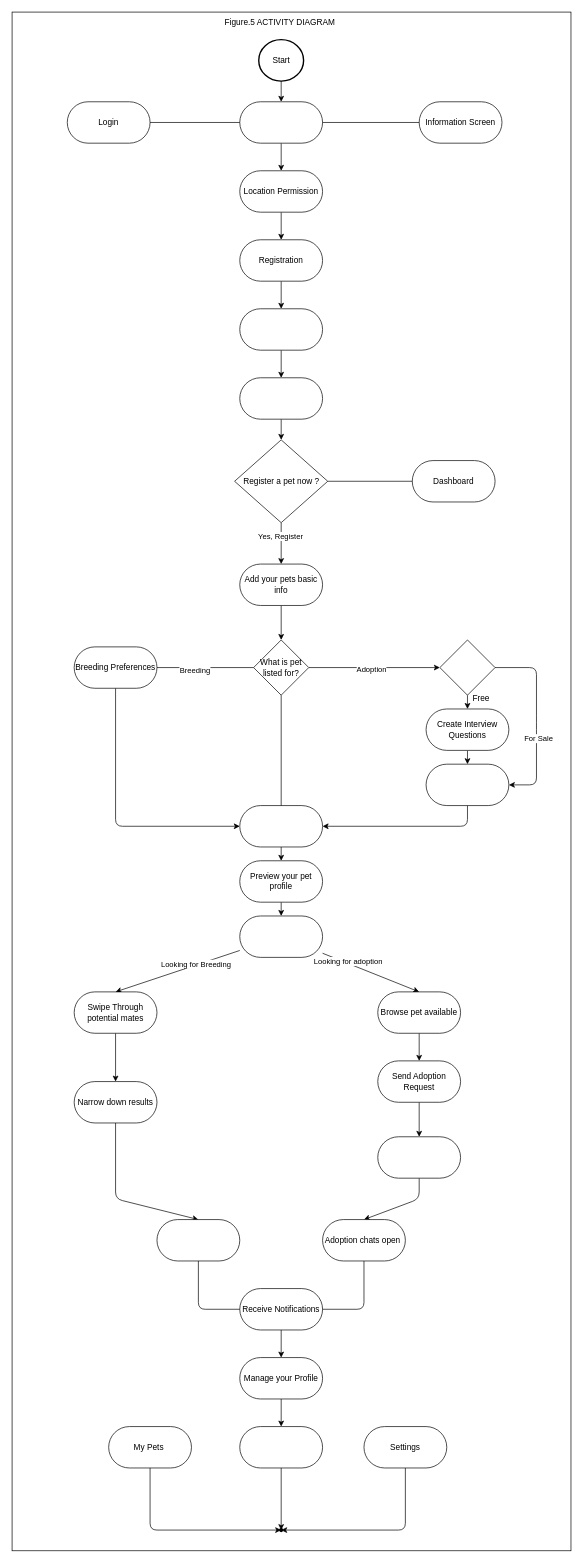
The diagram is 583 pixels wide and 1563 high, and some of its shapes have lost their labels. Here are the shapes that lost their labels. From the top down, the centre of each, then its label:
At pixel 281 122: "Get Started Screen".
At pixel 281 329: "Tell about yourself".
At pixel 281 398: "Review and confirm your info".
At pixel 467 667: "Listing Type".
At pixel 467 784: "Set Asking Price".
At pixel 281 826: "Upload Health Documents".
At pixel 281 936: "Pet Live now".
At pixel 419 1157: "Owner Review Request/Application".
At pixel 198 1240: "Breeding chats open".
At pixel 281 1447: "Health Vault".
